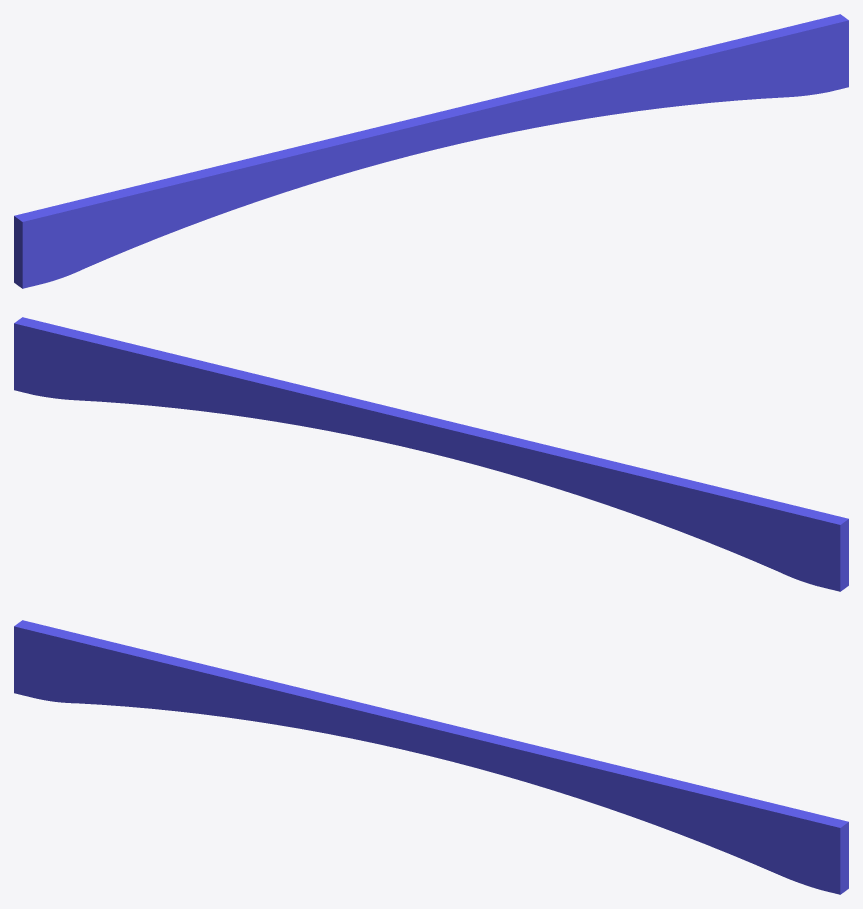
The model's file is original-9.obj.
The picture shows the model from 3 angles, top to bottom: view 1: azimuth 30°, elevation 25°; view 2: azimuth 150°, elevation 25°; view 3: azimuth 330°, elevation 25°; orthographic projection.
Parts seen in each view (by area): view 1: Group9/mesh17/mesh17-geometry#mesh17-geometry; view 2: Group9/mesh17/mesh17-geometry#mesh17-geometry; view 3: Group9/mesh17/mesh17-geometry#mesh17-geometry.
Part boxes in pixels (box(x1,y1,x2,y2)): Group9/mesh17/mesh17-geometry#mesh17-geometry: box(14, 14, 848, 288); Group9/mesh17/mesh17-geometry#mesh17-geometry: box(14, 317, 848, 591); Group9/mesh17/mesh17-geometry#mesh17-geometry: box(14, 620, 848, 894).
Bounding box in the file's own units: 1.1 × 0.0851 × 0.0196.
